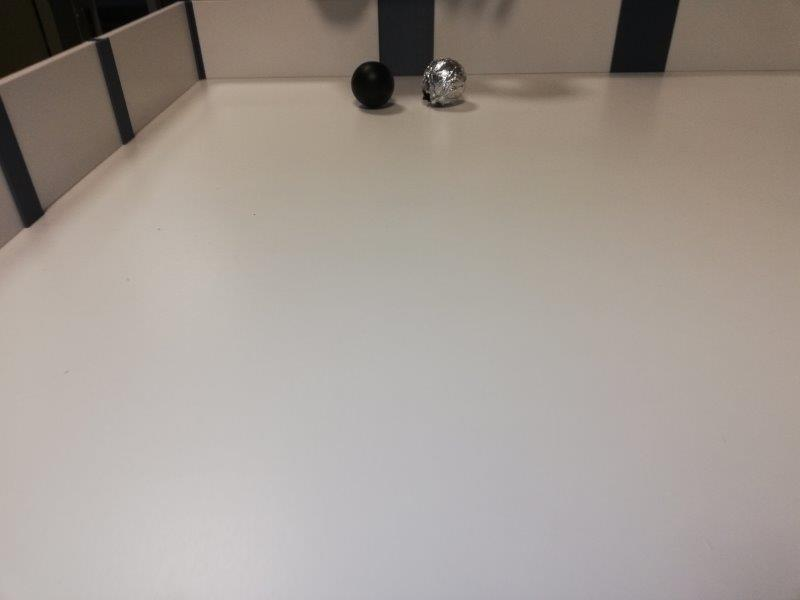bianca: (422, 56, 466, 106)
nera: (353, 62, 393, 106)
